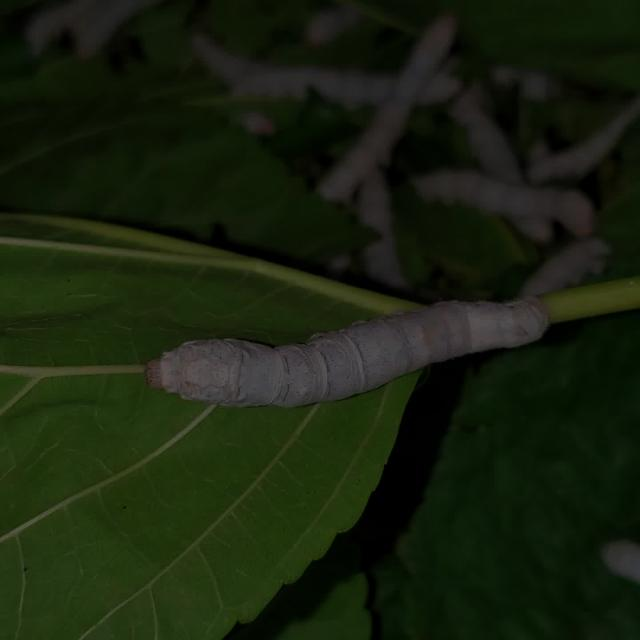Healthy: (126, 264, 572, 425)
